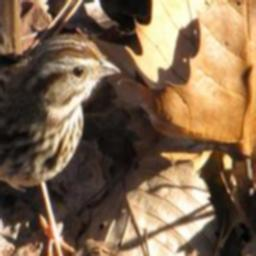Sparrow: (0, 31, 125, 256)
